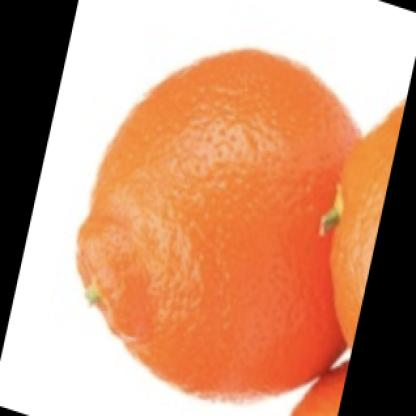fresh: (78, 48, 360, 399)
